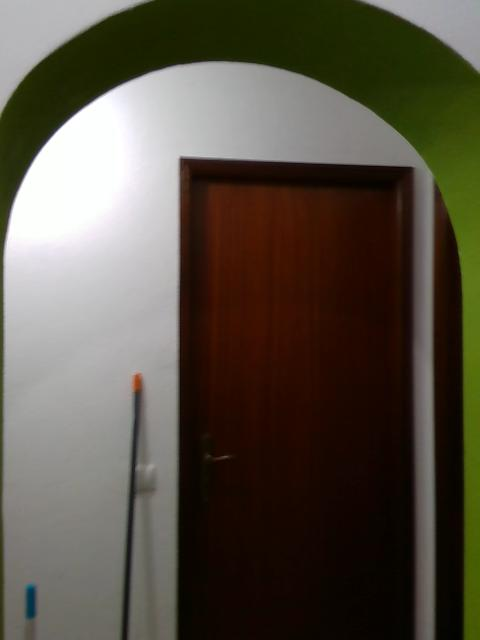door: (191, 178, 401, 640)
